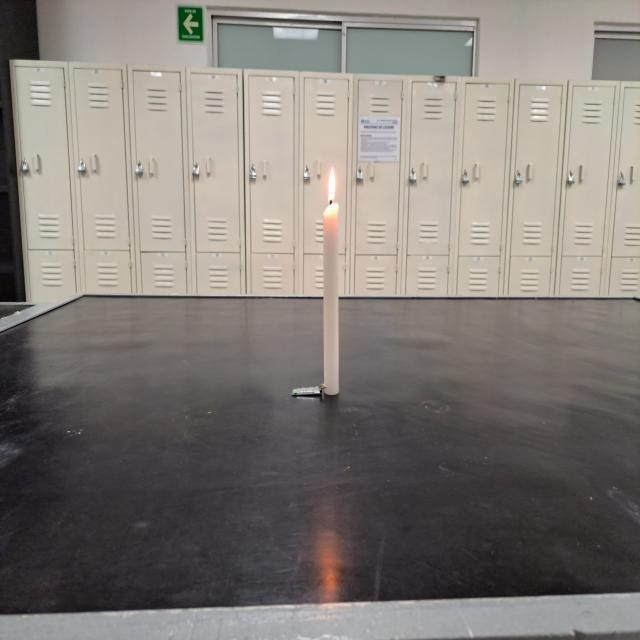candle: (314, 164, 353, 398)
